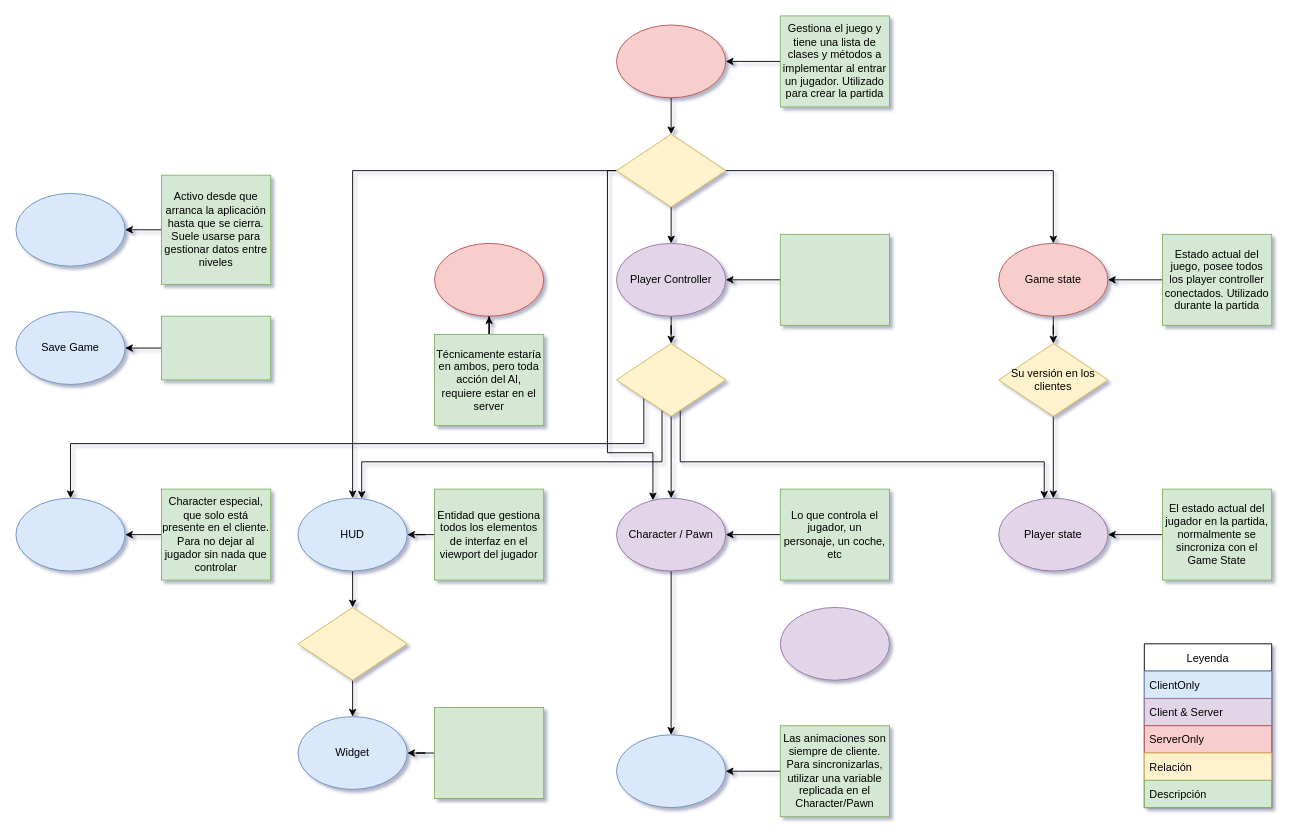
Some shapes in this 1293 by 838 pixel diagram are drawn without their labels. The shapes that lost their labels are listed below. From the top down, each one's box as (x1, y1, x2, y2) in pixels, then its label:
(616, 24, 726, 98): Game Mode
(616, 133, 726, 207): Define los siguientes elementos
(15, 192, 125, 266): Game instance
(434, 243, 544, 316): AI Controller
(779, 233, 890, 325): Respresenta al jugador (Ordenador), gestiona inputs, pantalla, conectividad, etc
(161, 315, 271, 380): Guarda datos locales en el cliente
(616, 343, 726, 416): Es el propietario de
(15, 497, 125, 571): Spectator Class
(297, 607, 407, 680): Gestiona
(779, 607, 890, 680): Actores, componentes, etc
(434, 707, 544, 799): Elemento de interfaz
(616, 734, 726, 808): BPAnimation
